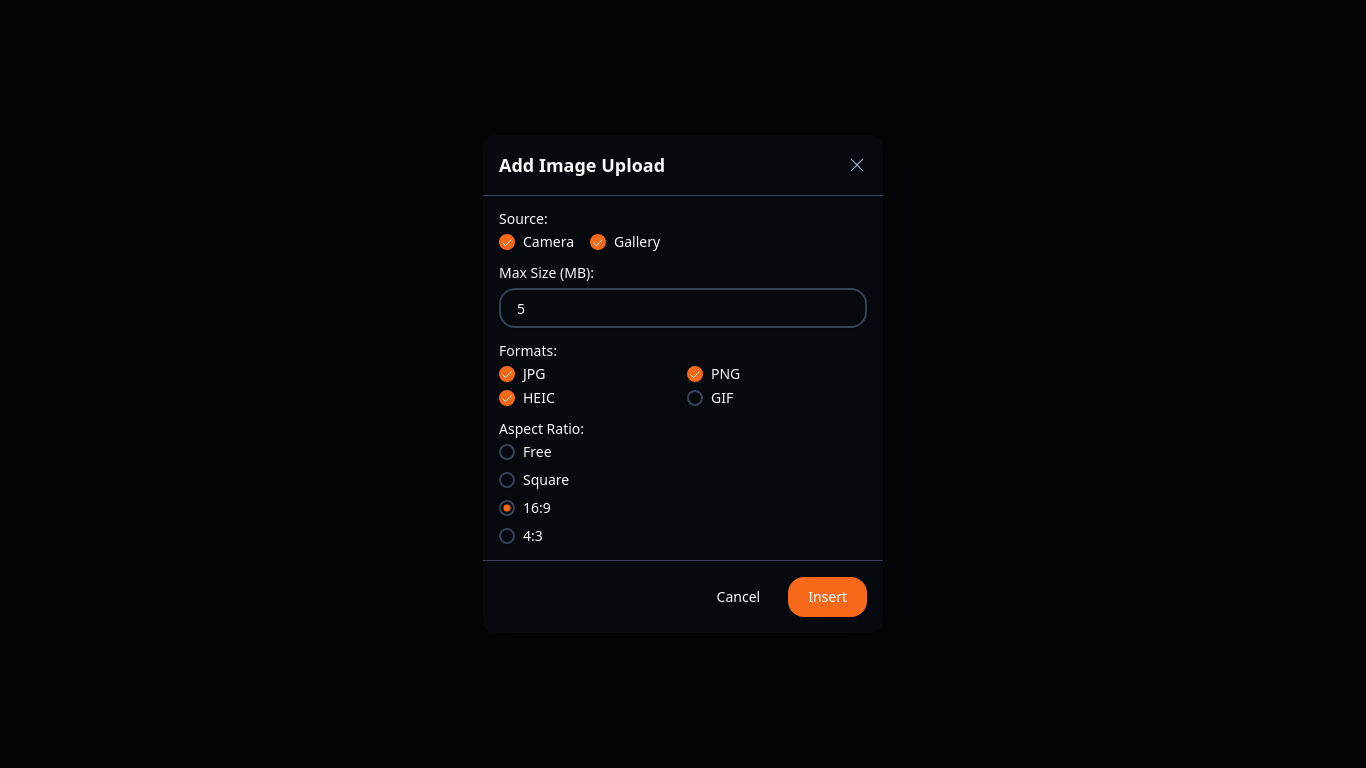
ImagePanel › Form Validation › should disable Insert button when no format selected
Click the checkbox named "JPG" next to "JPG" at x=507, y=374, box [499,366,515,382]
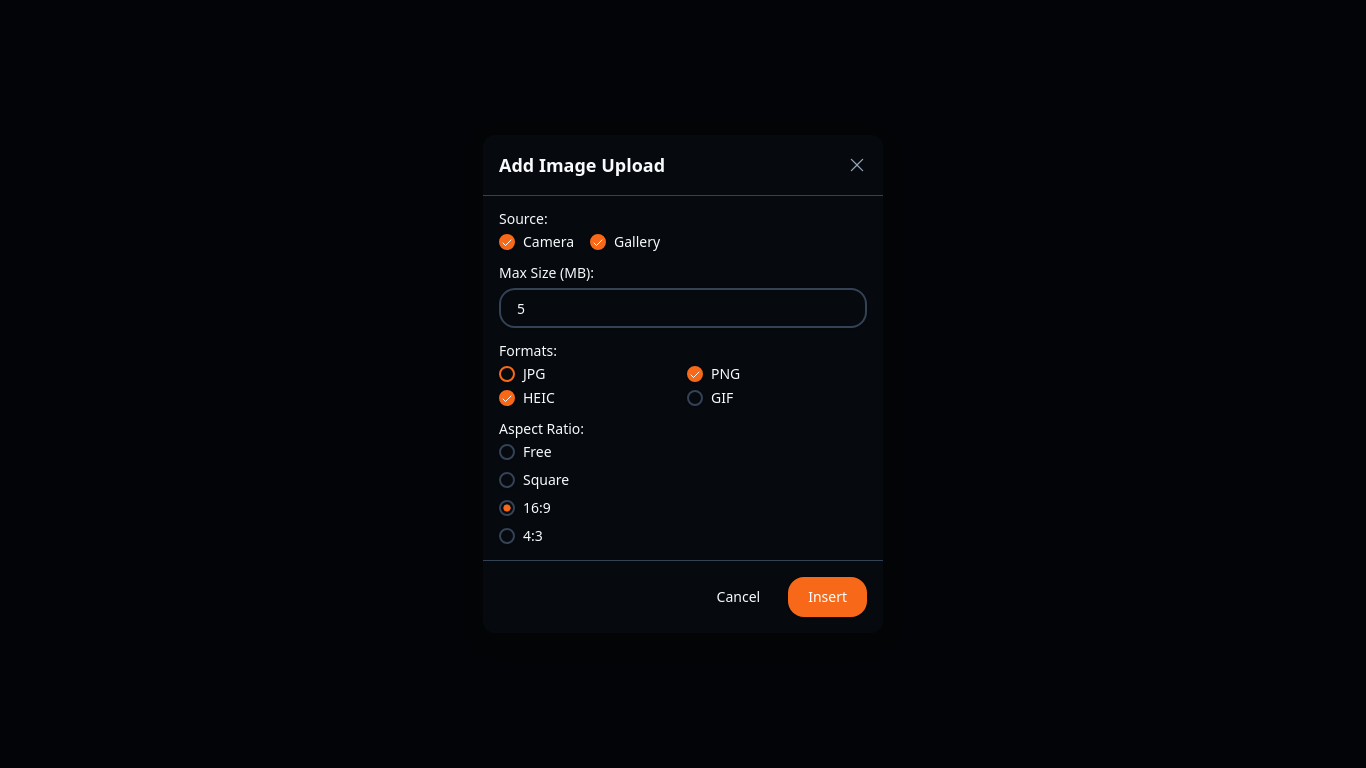
Click the checkbox named "PNG" next to "PNG" at x=695, y=374, box [687,366,703,382]
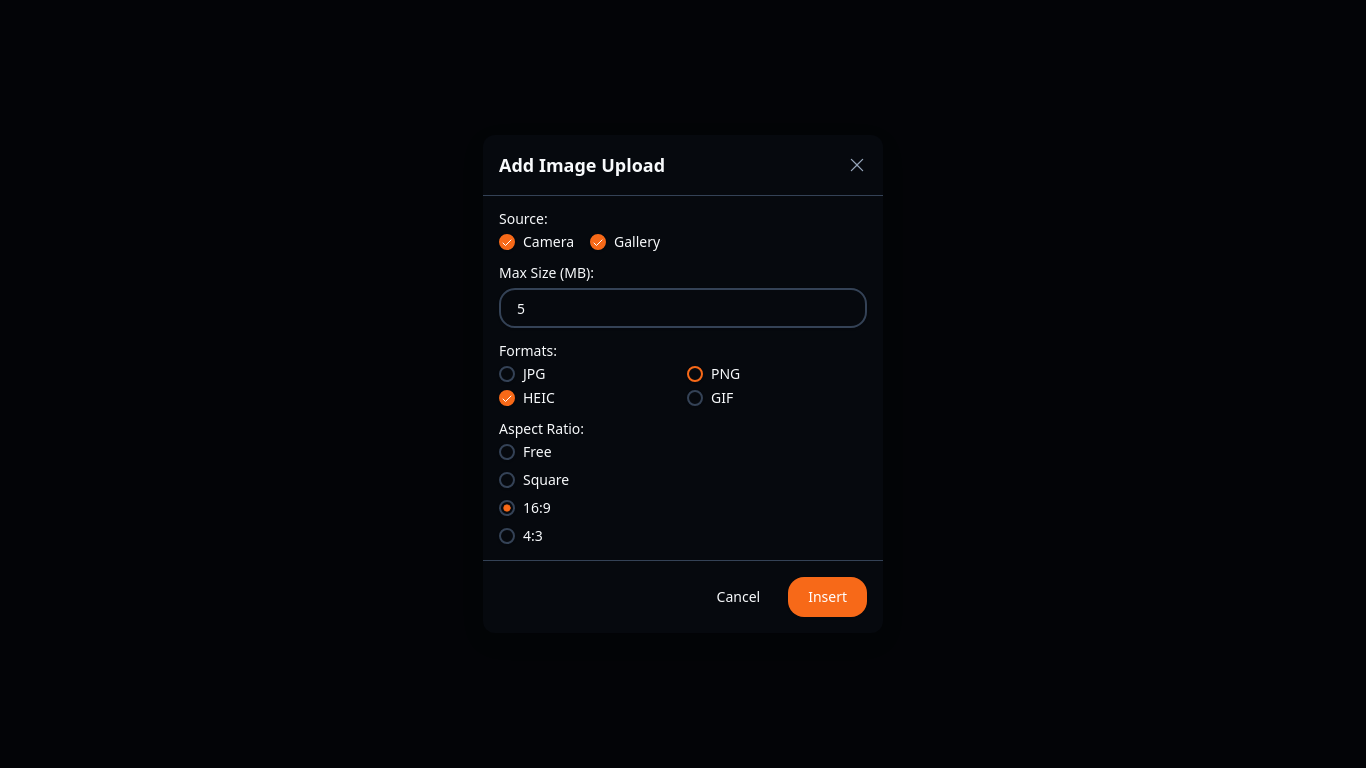
Click the checkbox named "HEIC" next to "HEIC" at x=507, y=398, box [499,390,515,406]
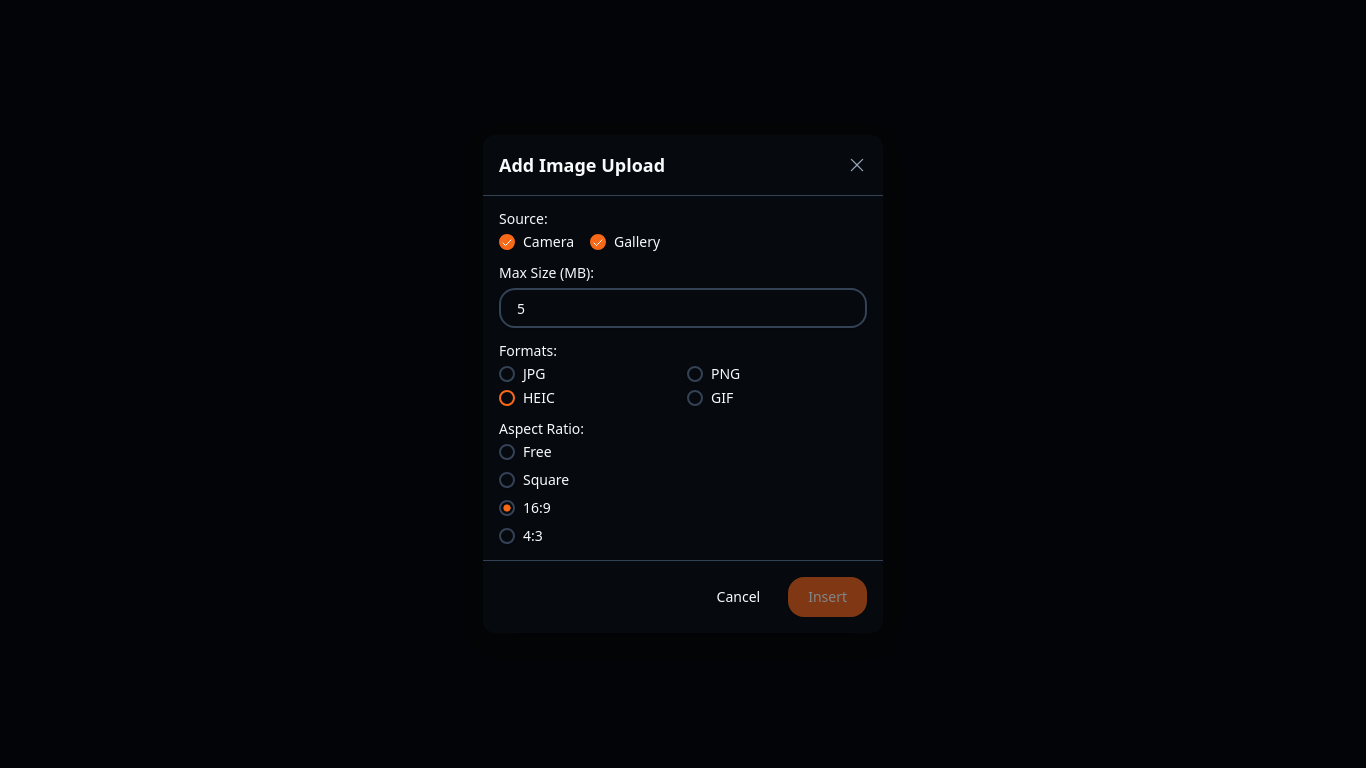
Check: the button "Insert" is disabled, box [788,577,867,617]
